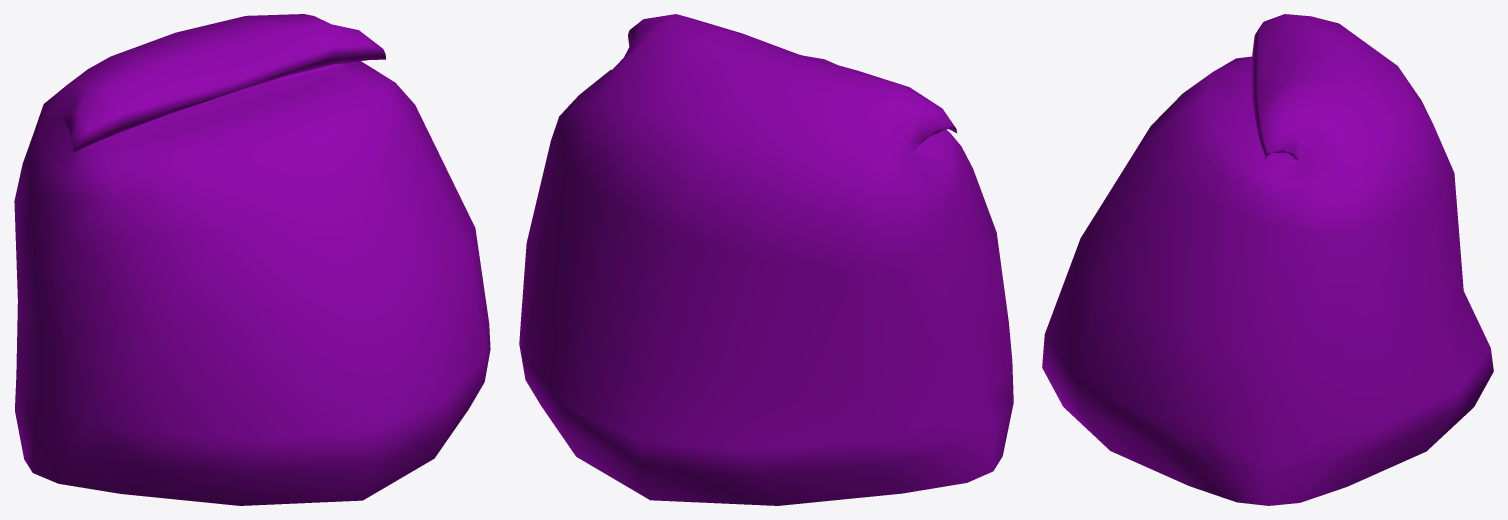
The model's file is SM_Bags_04.fbx.
The picture shows the model from 3 angles, left to right: view 1: azimuth 30°, elevation 25°; view 2: azimuth 150°, elevation 25°; view 3: azimuth 270°, elevation 25°; orthographic projection. The views are drawn at different scales.
Parts seen in each view (by area): view 1: Bags_04; view 2: Bags_04; view 3: Bags_04.
Boxes of the visible parts, box(x1,y1,x2,y2) form: Bags_04: box(14, 14, 490, 505); Bags_04: box(519, 14, 1013, 505); Bags_04: box(1042, 14, 1493, 505).
Bounding box in the file's own units: 93.37 × 76.09 × 90.03.
